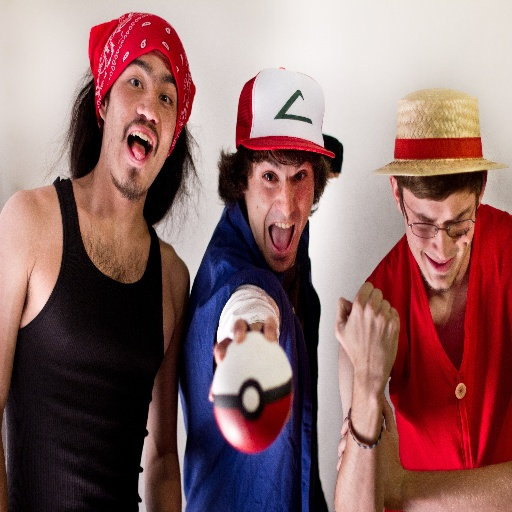hand: (336, 389, 404, 508), (334, 279, 404, 389), (206, 314, 281, 408)
